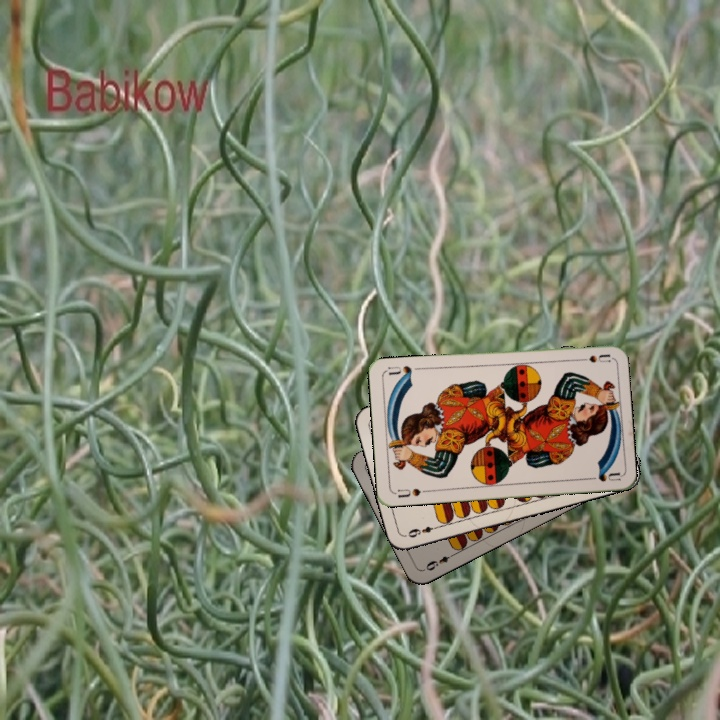E9: (420, 549, 458, 573), (402, 522, 442, 540)
SU: (392, 484, 432, 500), (571, 350, 612, 365)
